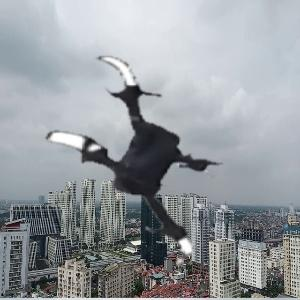drone: (14, 49, 240, 275)
